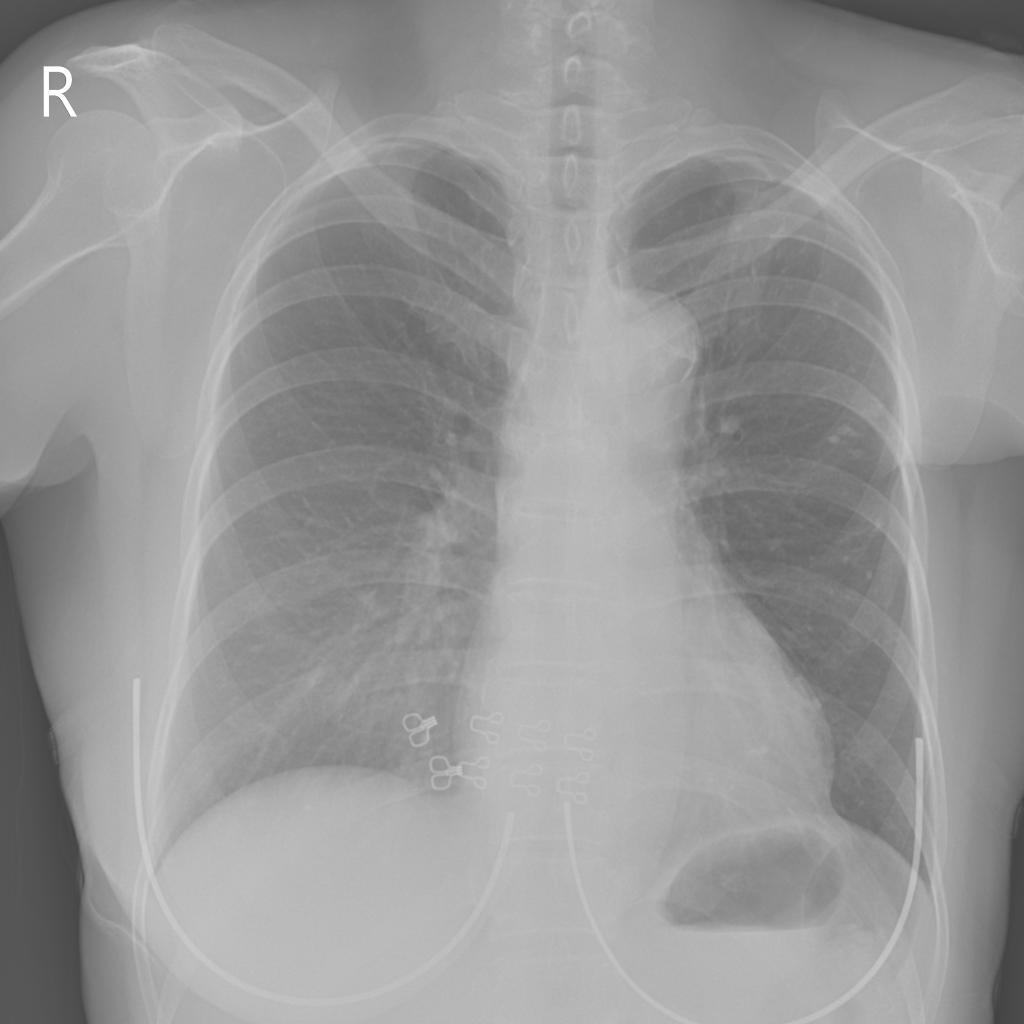Nodule: (828, 420, 872, 462)
